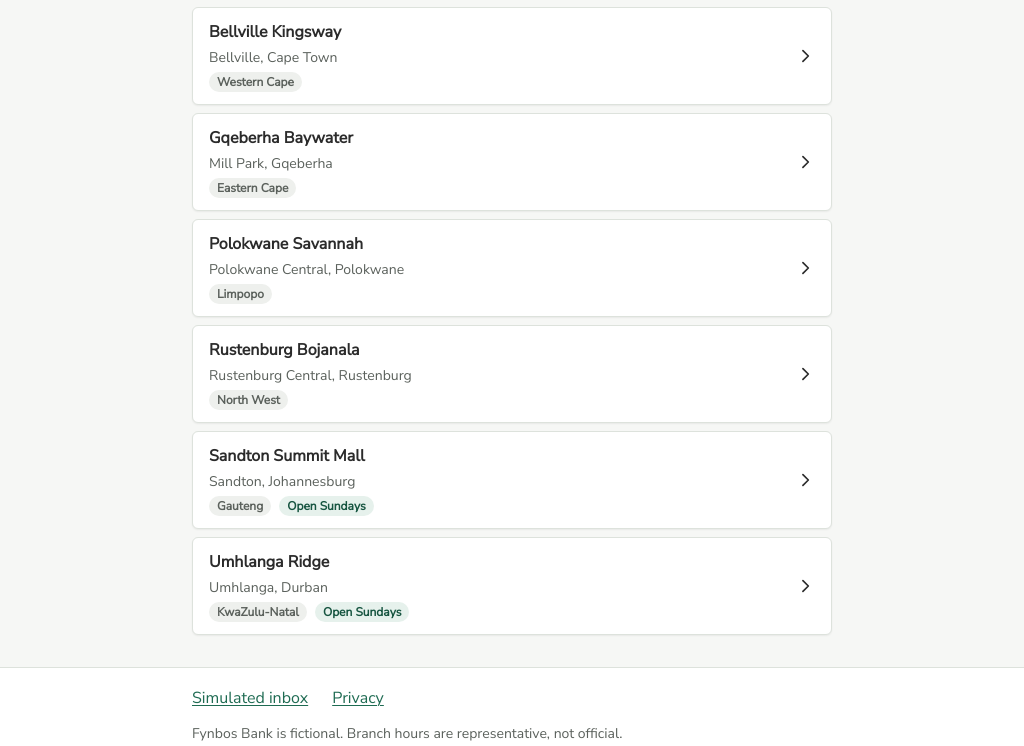
it: BookPage › shows the branch list, with the reason, for a branch code the API does not know
(page scrolled)
Click the link "Sandton Summit Mall" at (287,456), box [193,432,831,528]
(page scrolled)
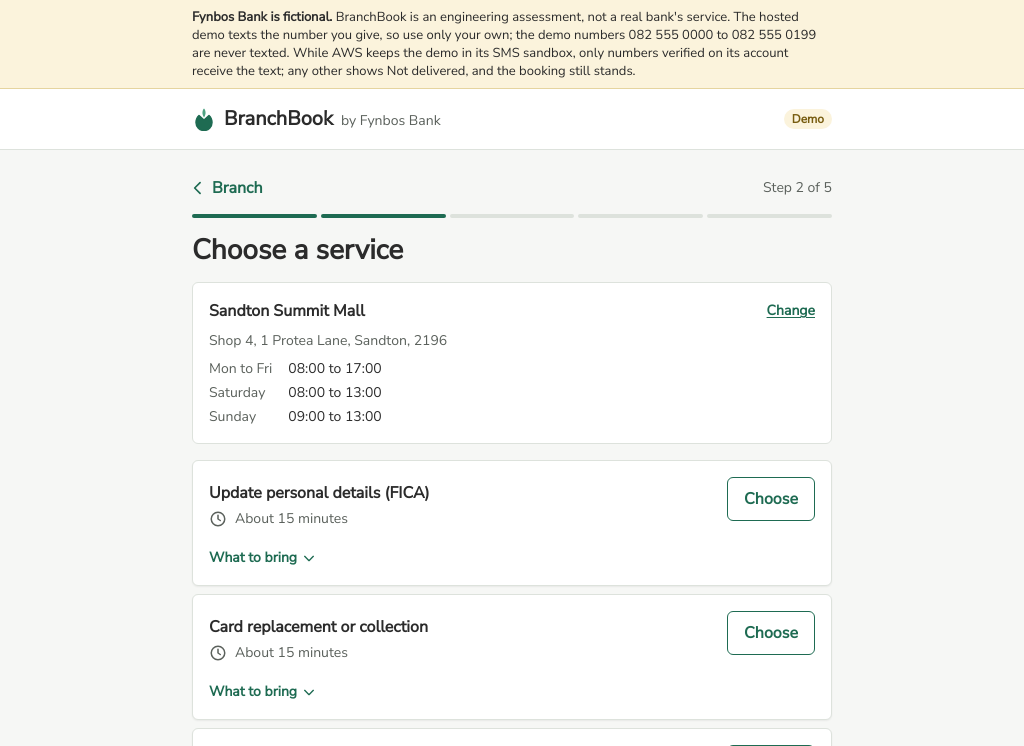
Now the heading "Choose a service" is shown, box [192,231,403,269]
